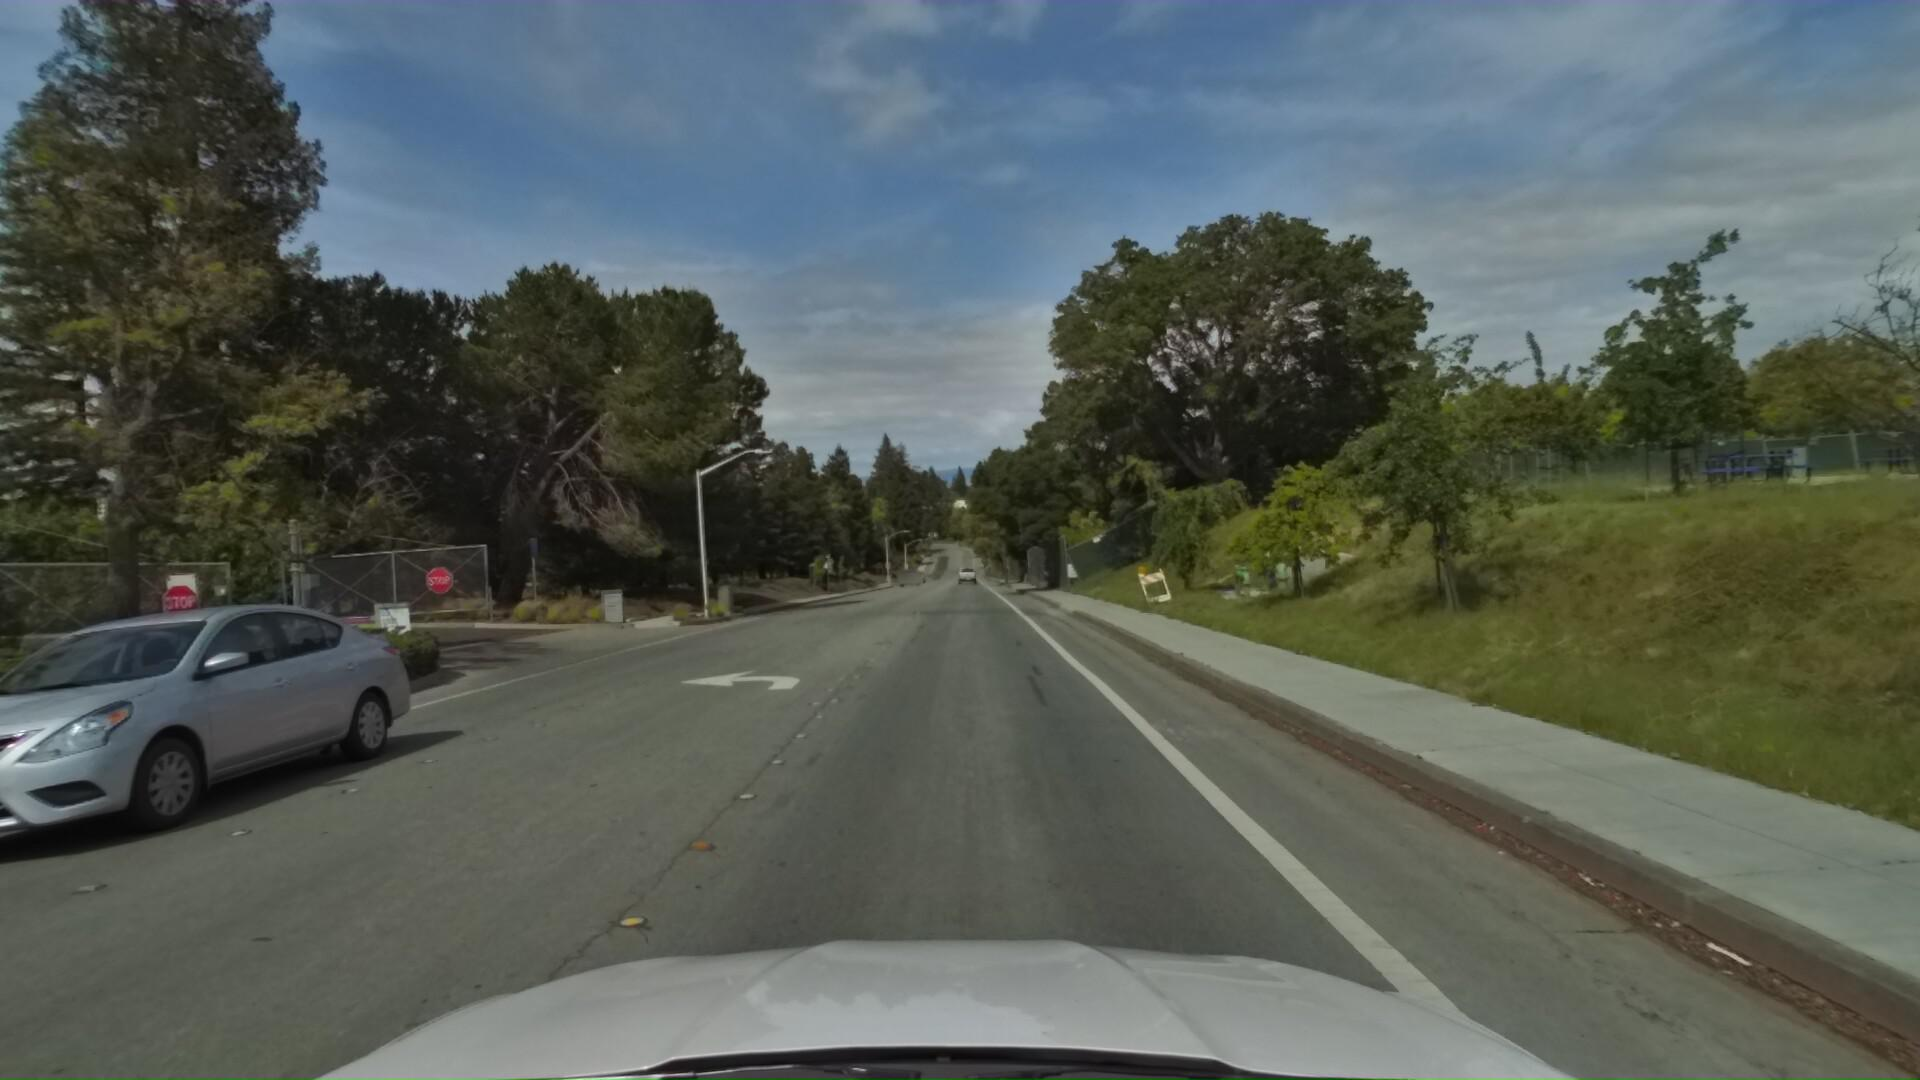car: (0, 558, 386, 992)
